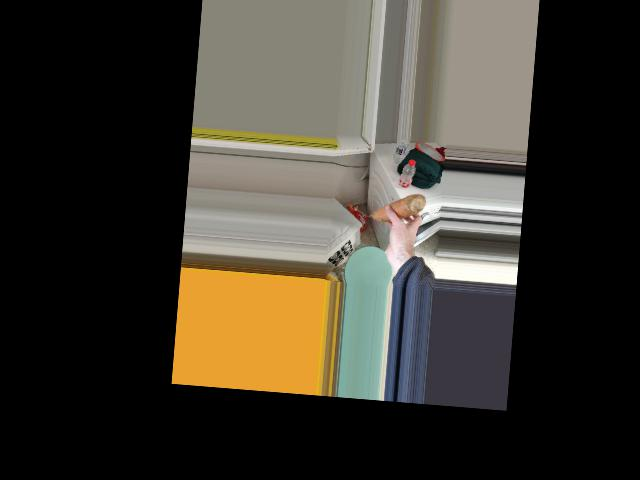sweet_potato: (372, 188, 423, 229)
